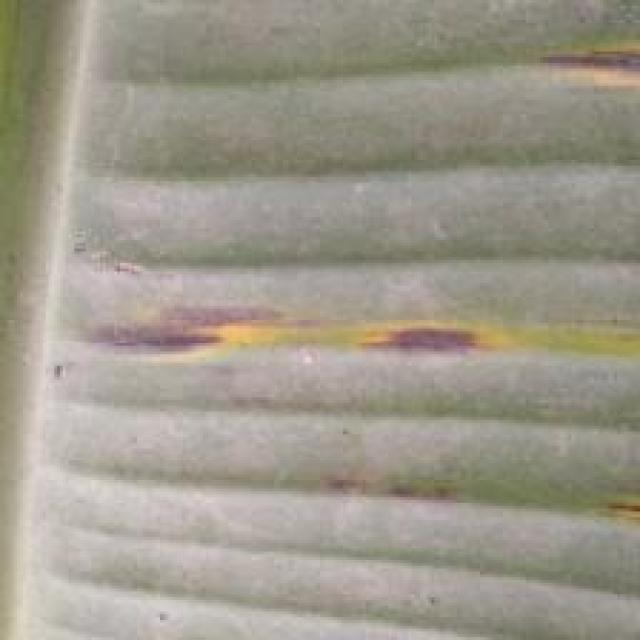Early_leaf_spot: (99, 277, 640, 388), (515, 0, 640, 104), (600, 460, 640, 537)
